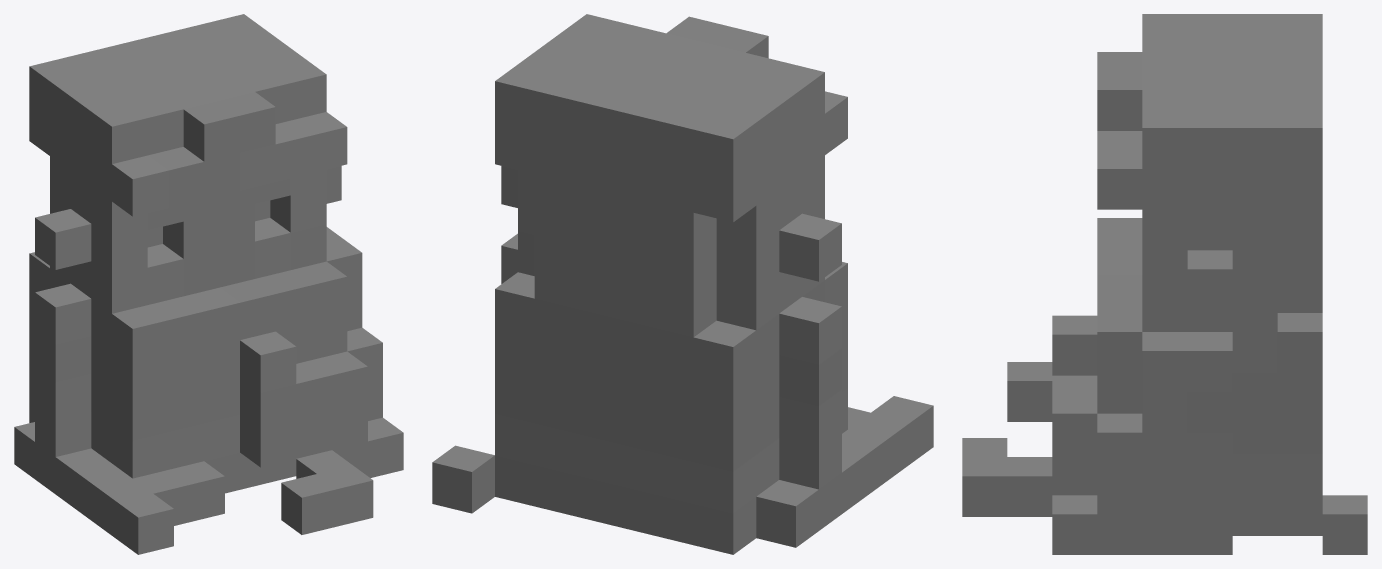
The model's file is alien_infected2.obj.
The picture shows the model from 3 angles, left to right: view 1: azimuth 30°, elevation 25°; view 2: azimuth 150°, elevation 25°; view 3: azimuth 270°, elevation 25°; orthographic projection. The views are drawn at different scales.
Bounding box in the file's own units: 8 × 10 × 9.
